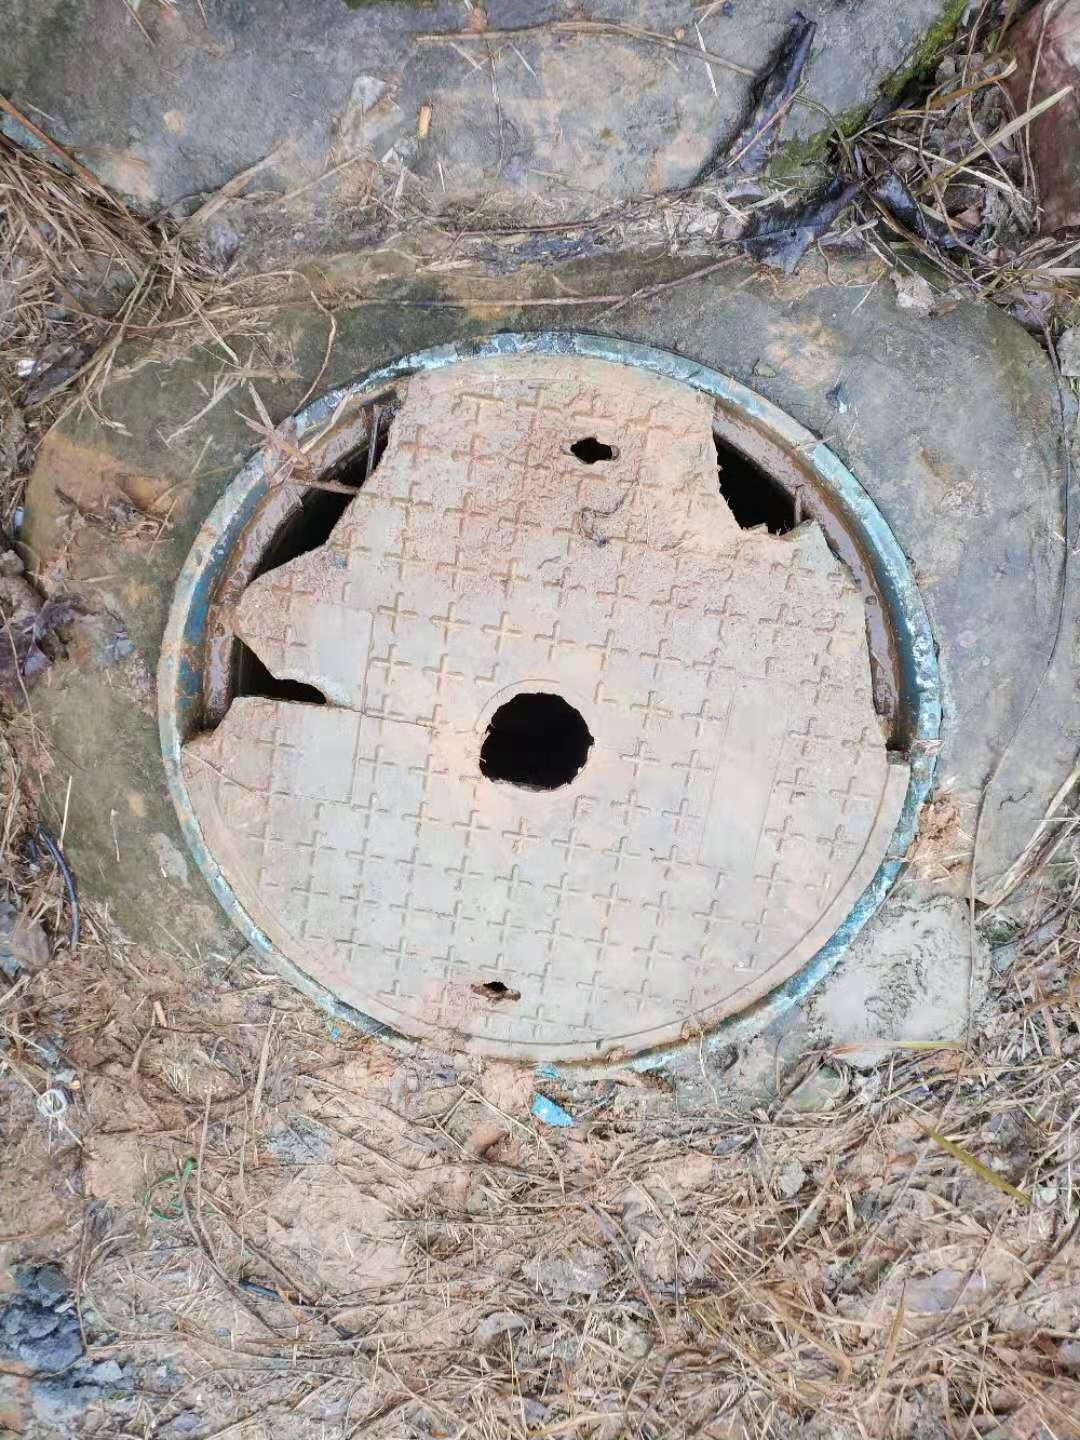broke: (147, 330, 942, 1089)
